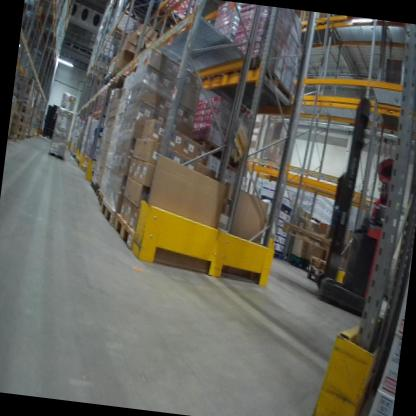forklift: (303, 80, 409, 327)
pallet: (108, 214, 221, 276), (277, 215, 342, 256), (97, 199, 120, 231), (155, 5, 187, 27), (301, 264, 333, 285), (305, 252, 332, 276), (91, 47, 116, 67), (106, 20, 127, 36), (34, 0, 58, 14), (96, 188, 108, 212), (126, 0, 163, 7), (87, 175, 97, 194), (93, 181, 102, 199), (7, 132, 18, 145)
